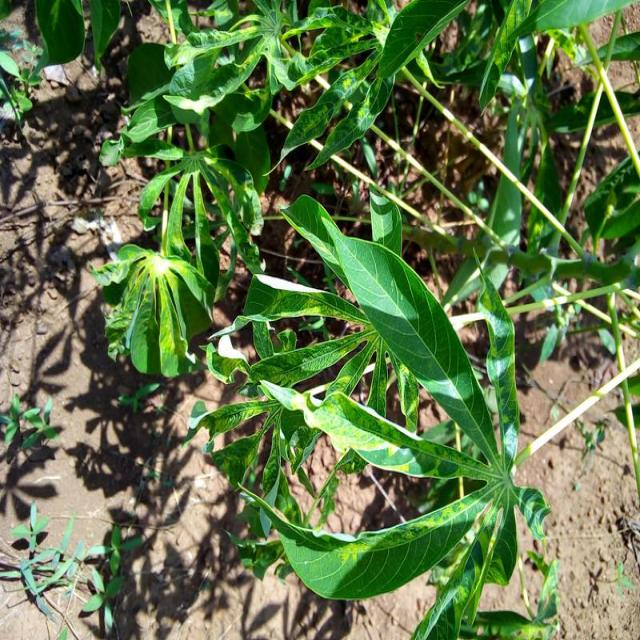cassava leaf: (193, 184, 550, 636), (279, 188, 502, 470)
